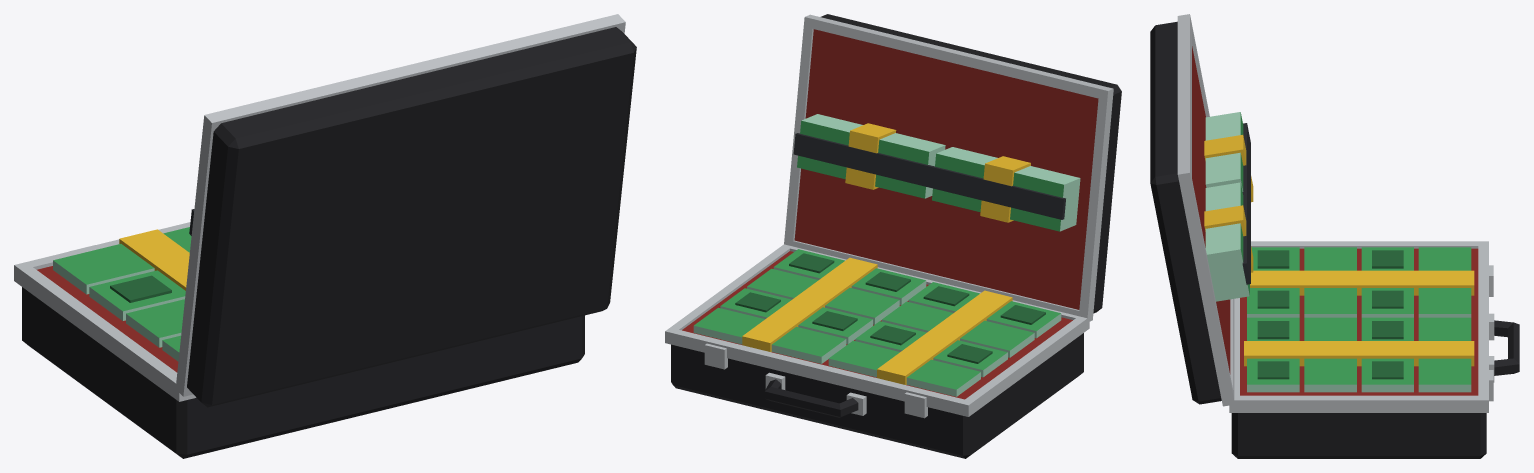
Rendered from pickup_cash_big.glb.
The picture shows the model from 3 angles, left to right: view 1: azimuth 30°, elevation 25°; view 2: azimuth 150°, elevation 25°; view 3: azimuth 270°, elevation 25°; orthographic projection. The views are drawn at different scales.
Parts seen in each view (by area): view 1: pickup_cash_big__body; view 2: pickup_cash_big__body; view 3: pickup_cash_big__body.
Boxes of the visible parts, x1,y1,x2,y2 form: pickup_cash_big__body: [14, 14, 636, 458]; pickup_cash_big__body: [665, 14, 1121, 458]; pickup_cash_big__body: [1150, 14, 1519, 458].
Bounding box in the file's own units: 0.486 × 0.4136 × 0.4777.
Materials: 1 (1 with a texture image).
